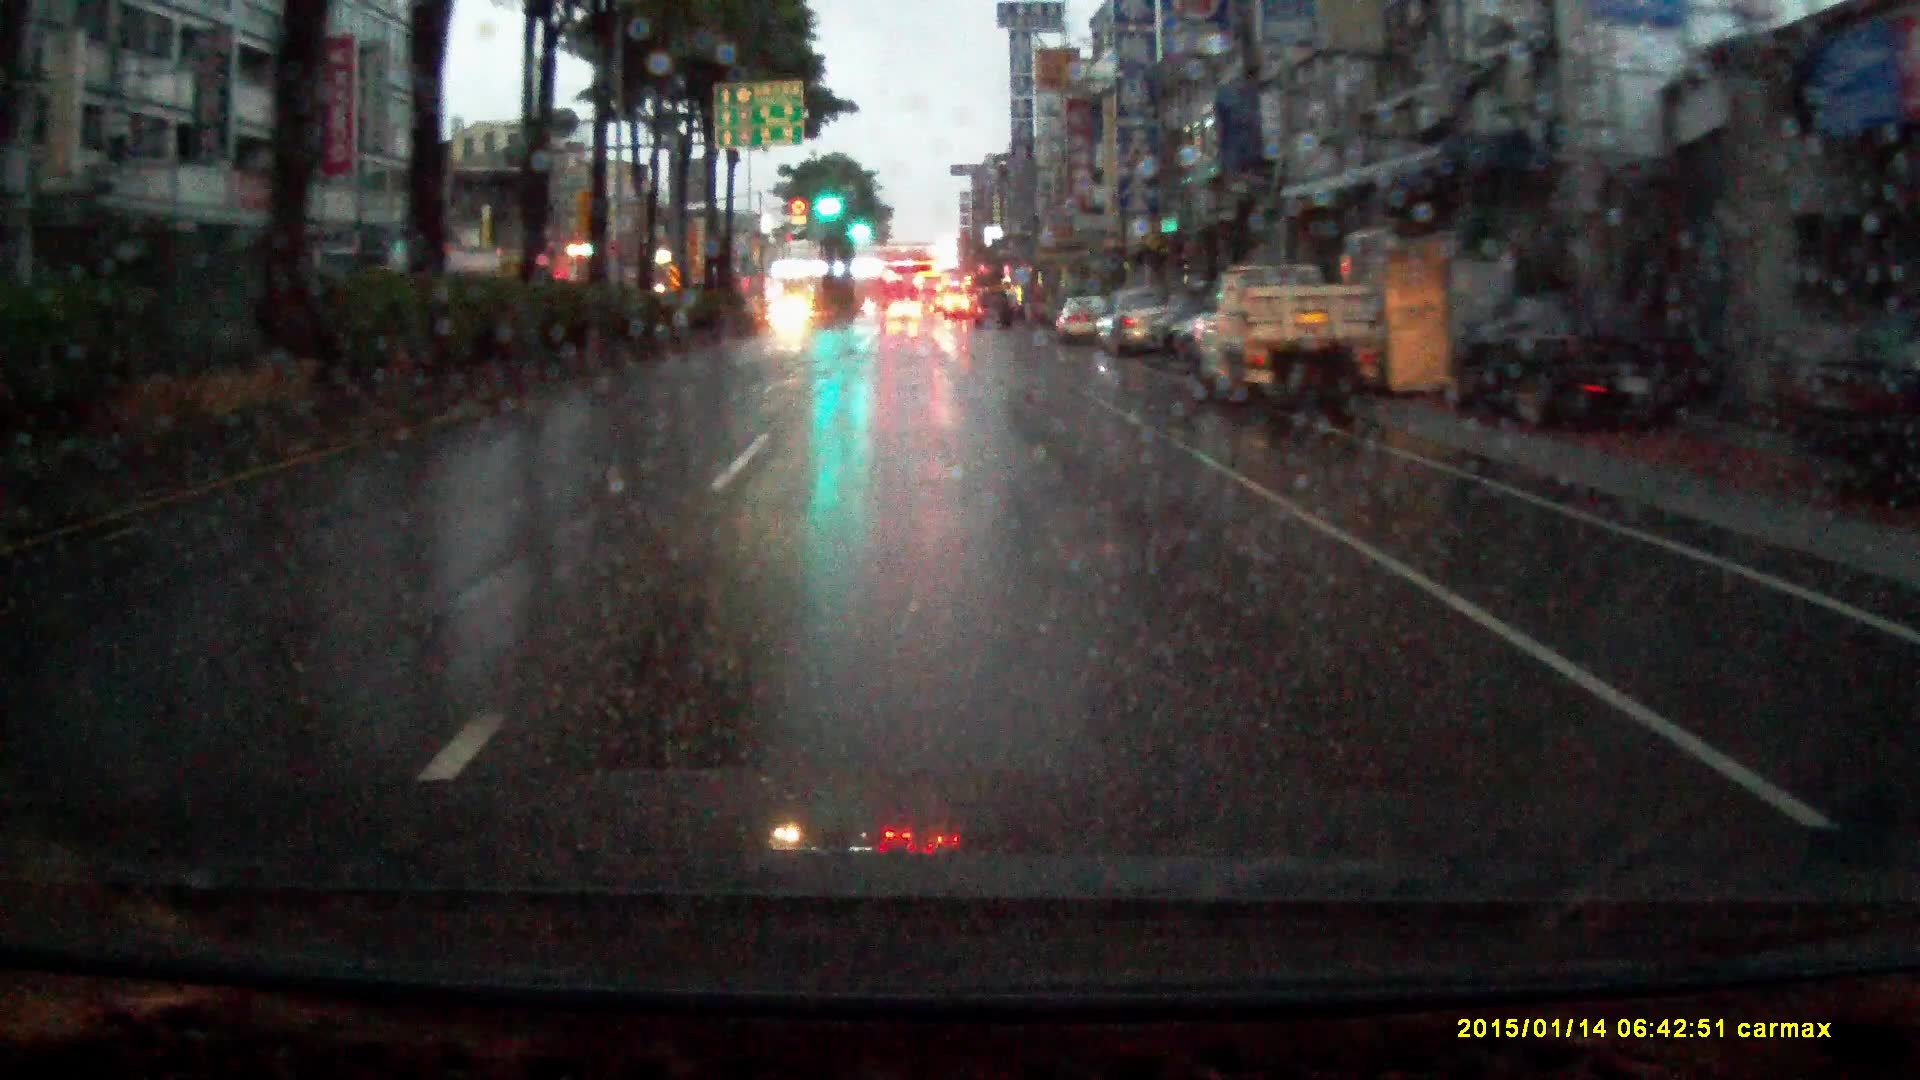vehicle: (1445, 298, 1704, 440), (1192, 266, 1390, 425), (1096, 289, 1183, 361), (1056, 297, 1106, 348), (975, 293, 1014, 335), (770, 301, 814, 338), (916, 280, 940, 316), (943, 297, 973, 324), (889, 305, 923, 324)
